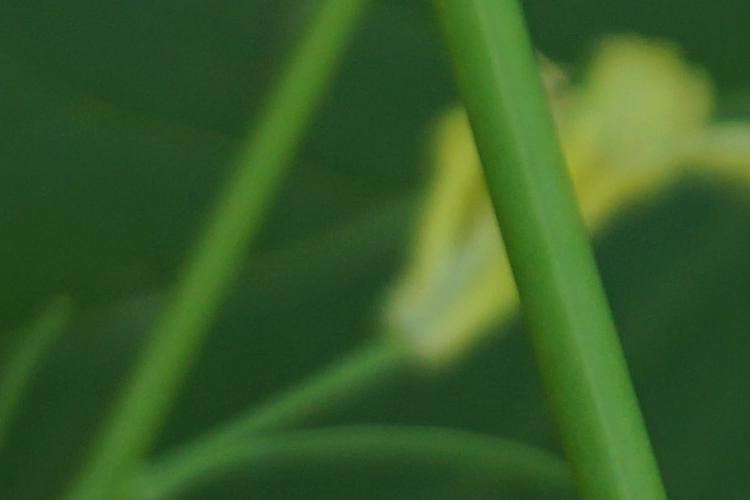yellow: (332, 7, 750, 370)
